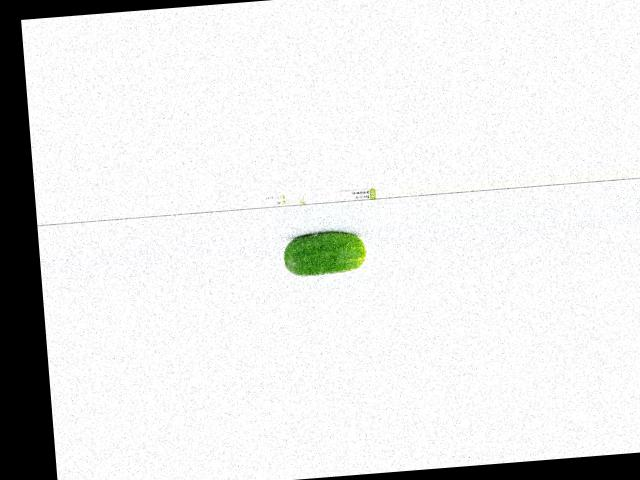cucumber: (281, 229, 366, 276)
